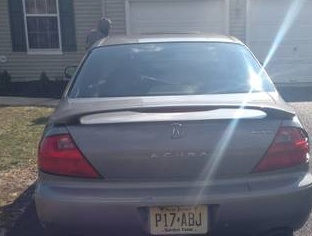acura: (20, 30, 311, 233)
